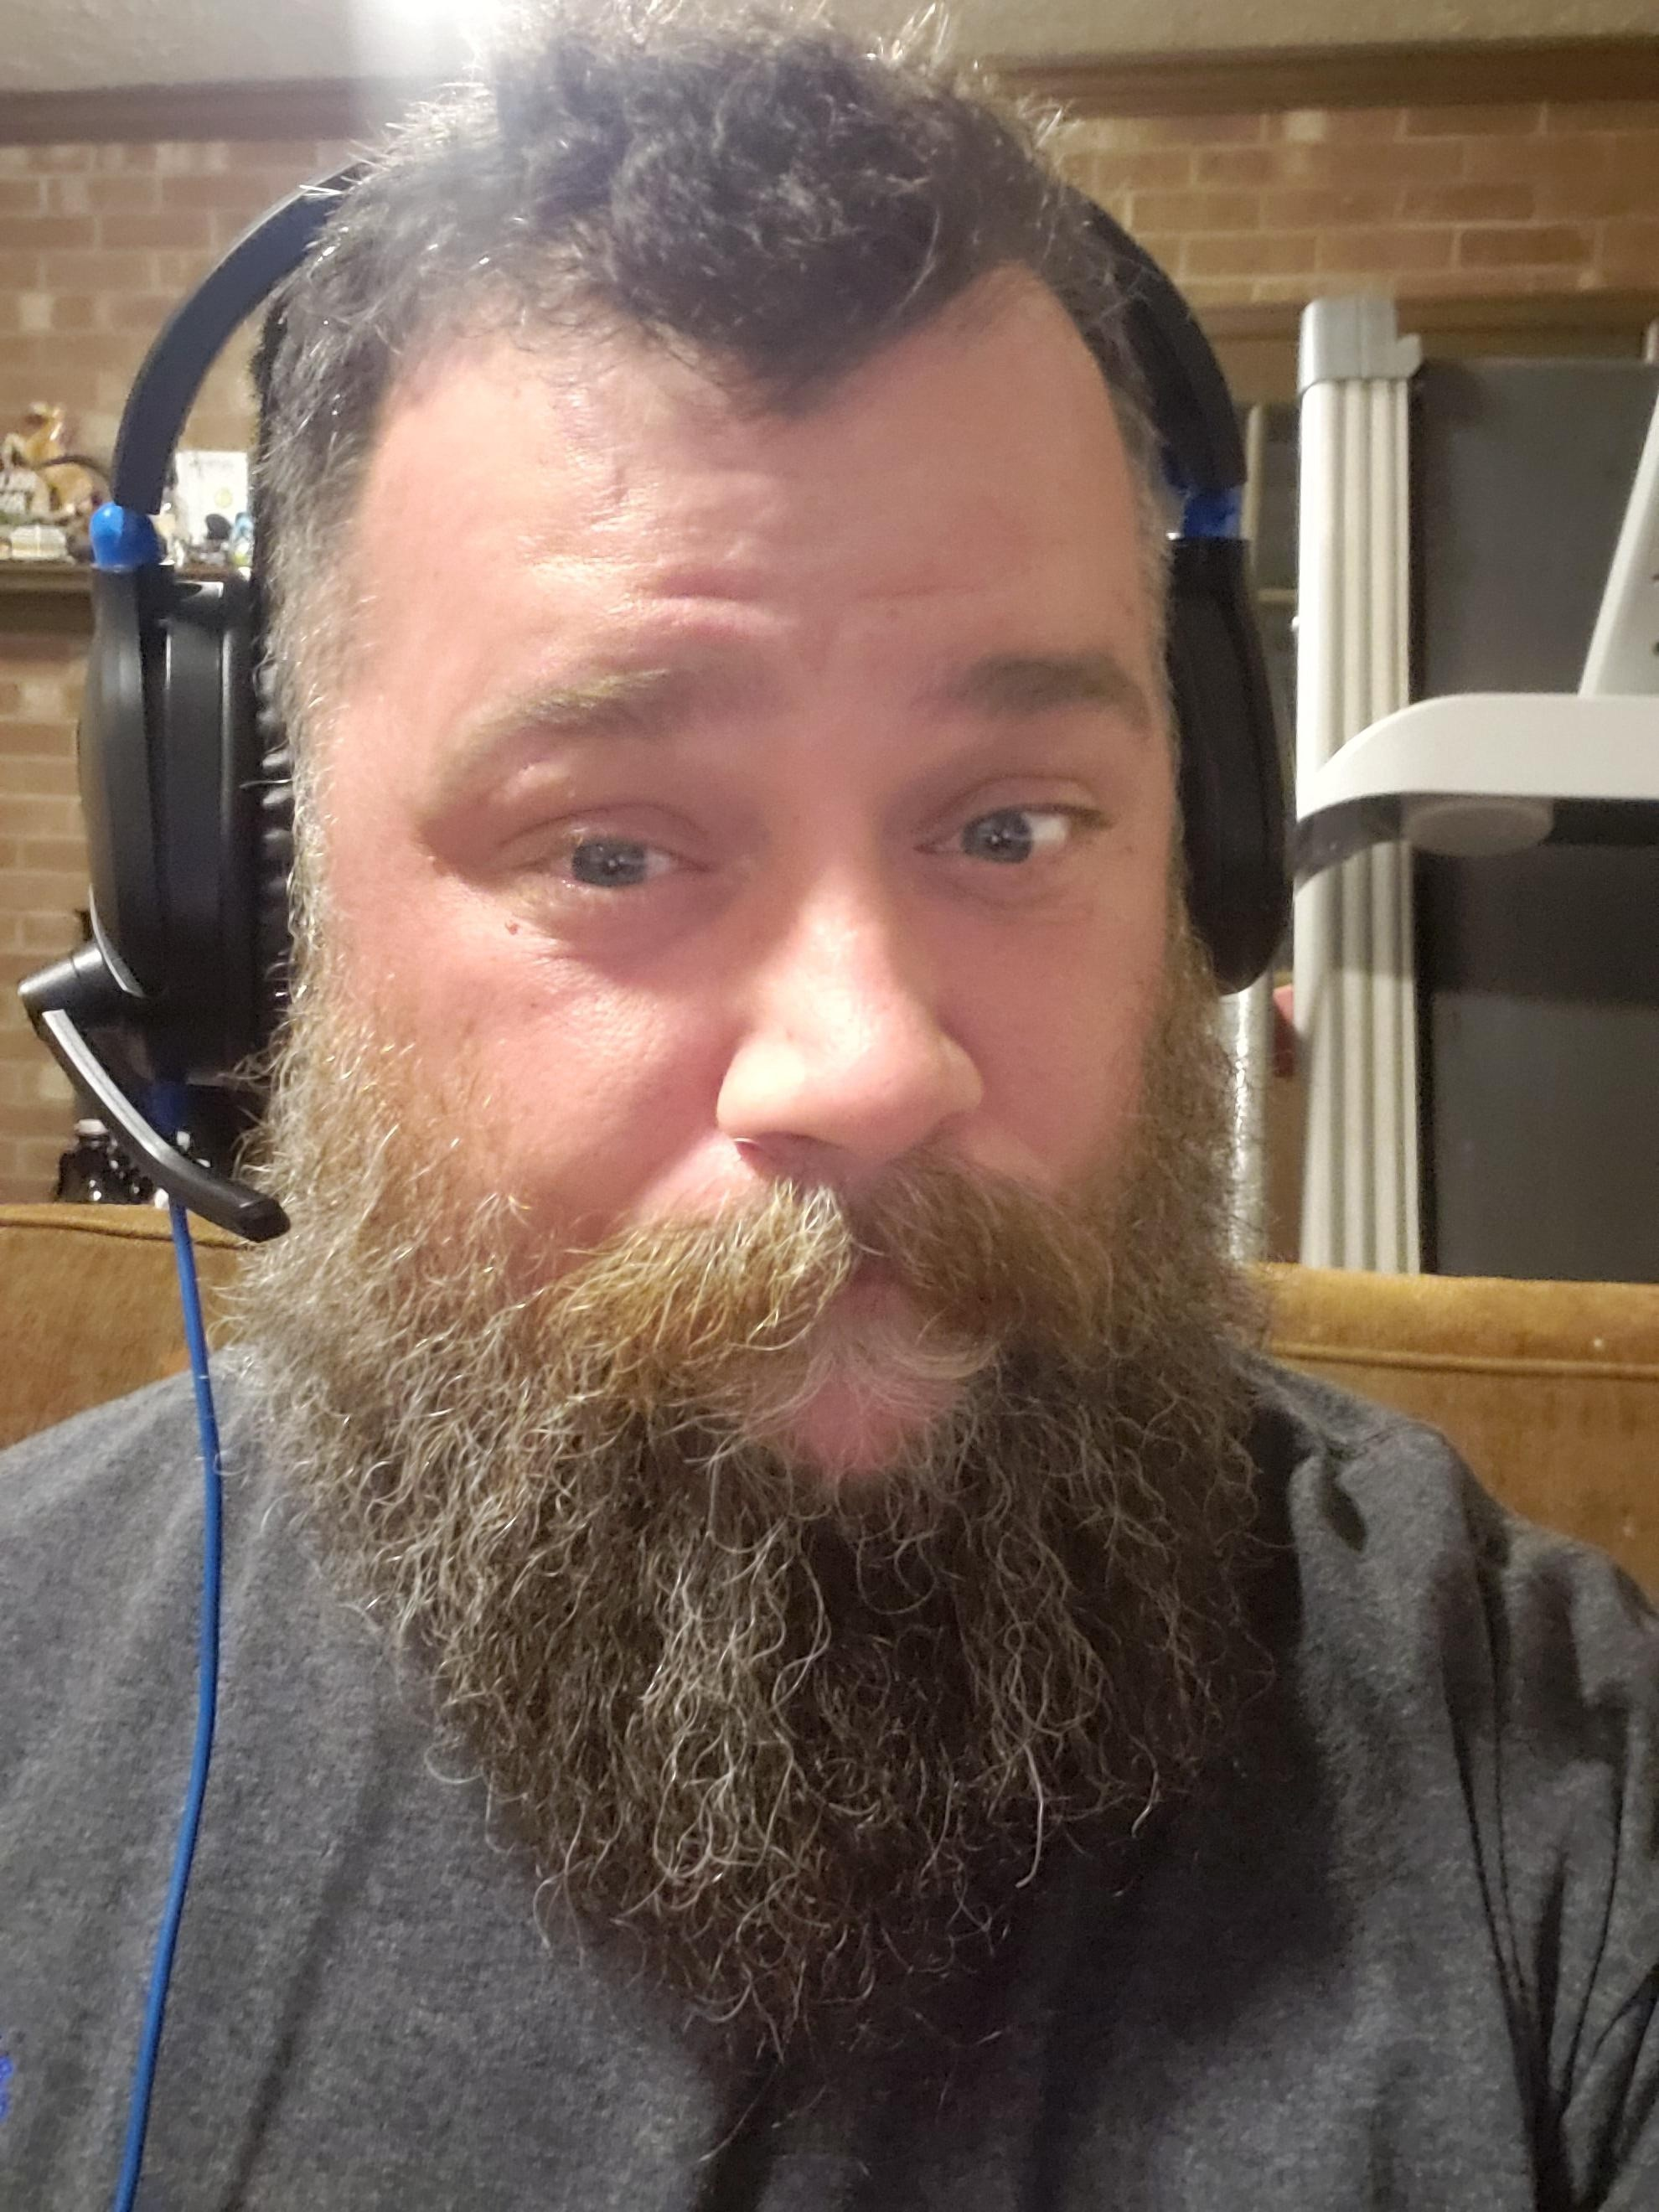face_no_mask: (133, 25, 1333, 1632)
